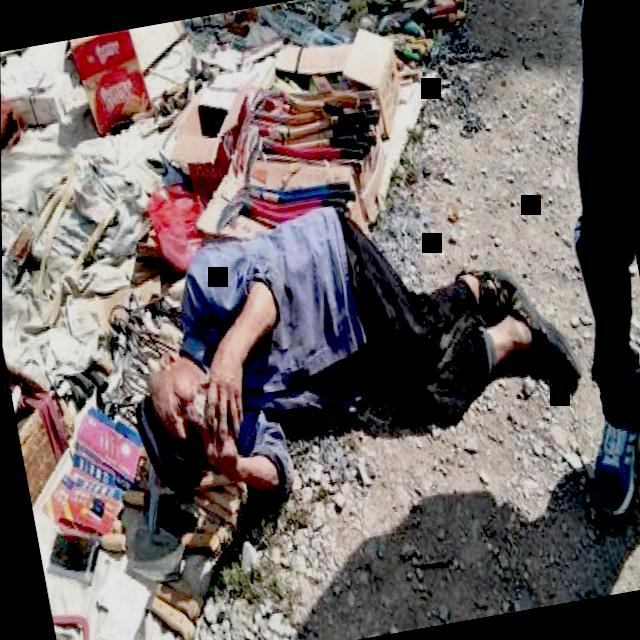Fall-Detected: (85, 149, 623, 635)
